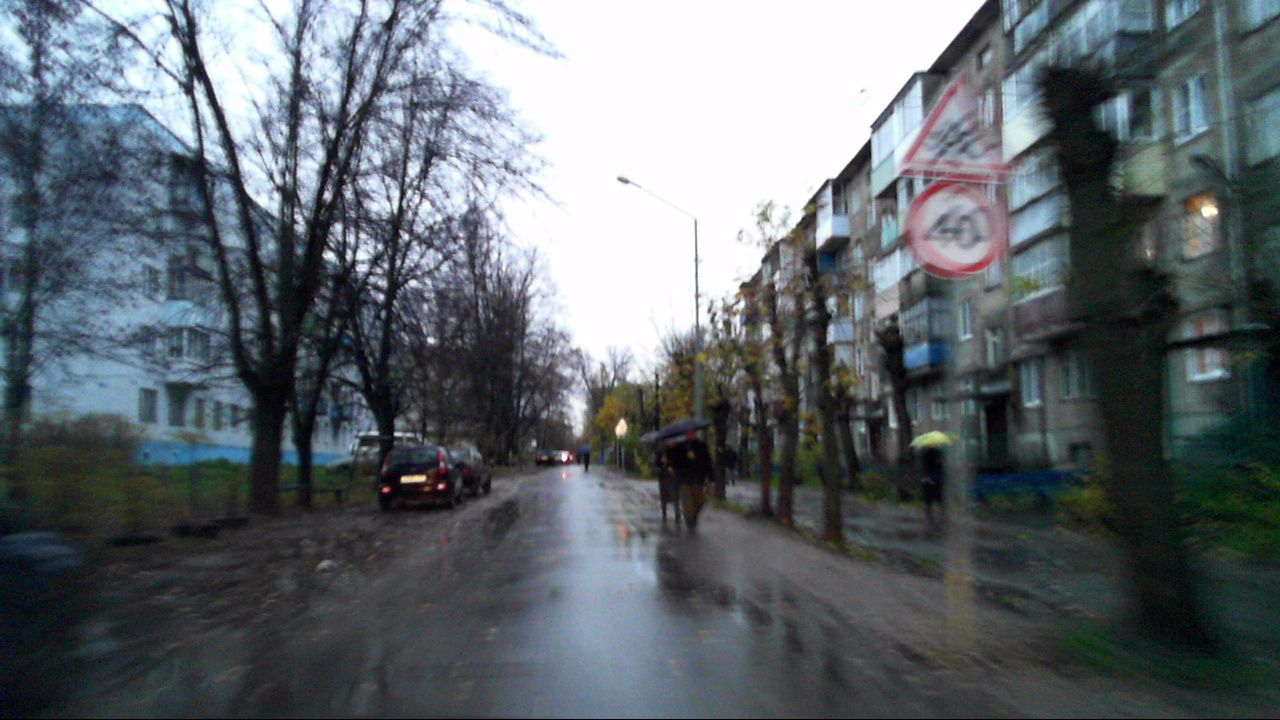speed_warning_40: (904, 176, 1007, 280)
